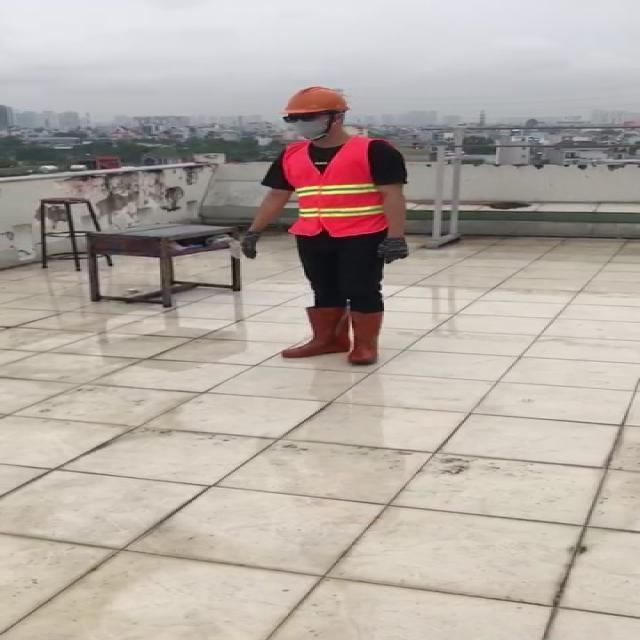gloves: (372, 230, 414, 266)
helmet: (278, 84, 357, 115)
safety_vest: (288, 132, 387, 238)
